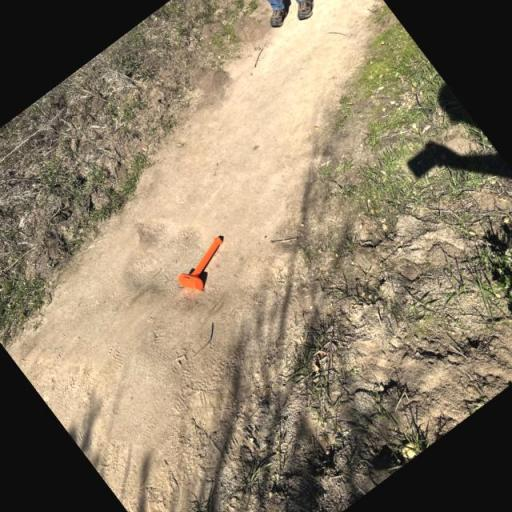mallet: (170, 234, 238, 298)
